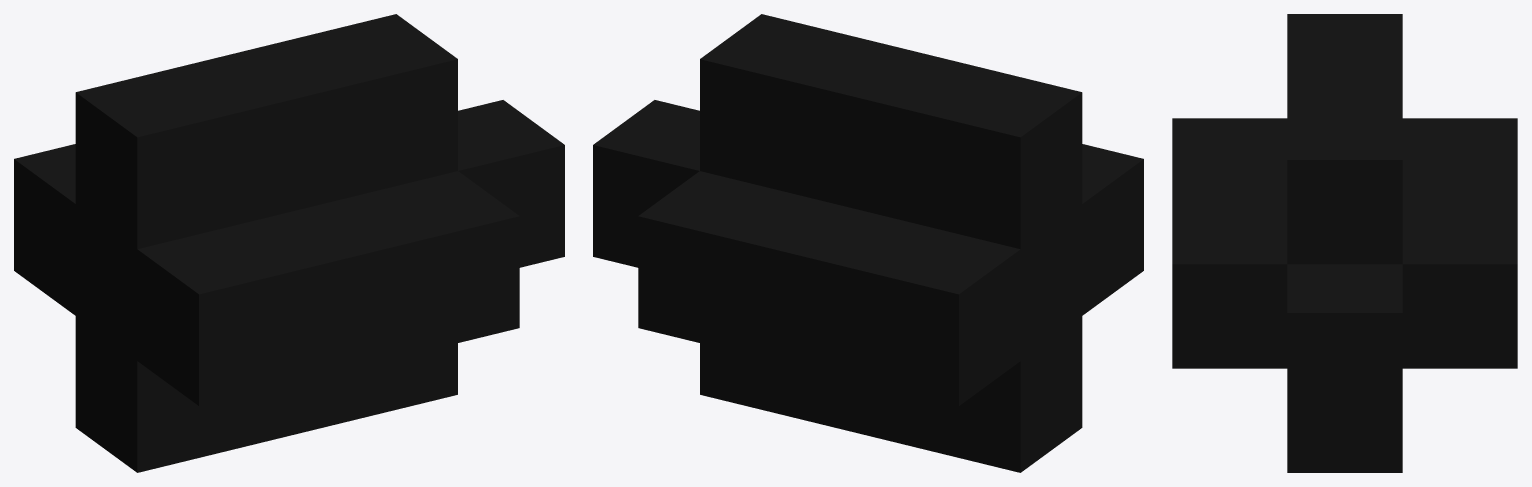
File: Bullet.fbx
The picture shows the model from 3 angles, left to right: view 1: azimuth 30°, elevation 25°; view 2: azimuth 150°, elevation 25°; view 3: azimuth 270°, elevation 25°; orthographic projection. The views are drawn at different scales.
Visible parts, largest first — view 1: Matrix; view 2: Matrix; view 3: Matrix.
Part boxes in pixels (x1=…): Matrix: x1=14, y1=14, x2=564, y2=472; Matrix: x1=593, y1=14, x2=1143, y2=472; Matrix: x1=1172, y1=14, x2=1517, y2=472.
Size of the model in its own units: 4 by 3 by 3.
Materials: 1 (1 with a texture image).
